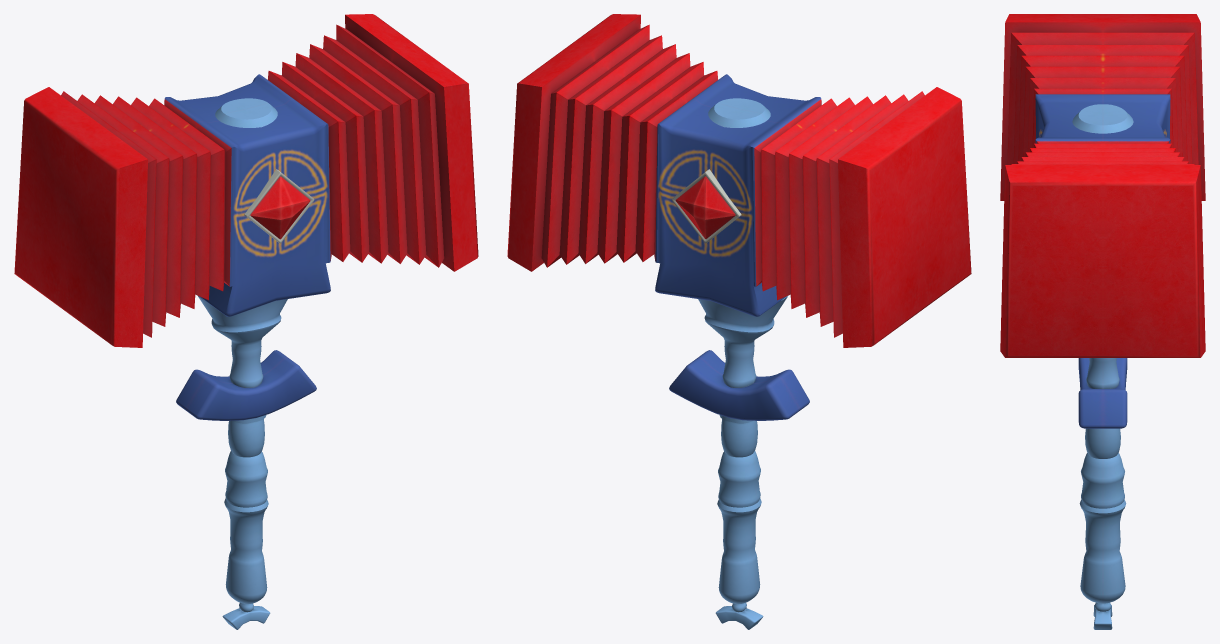
Rendered from toy hammer.fbx.
The picture shows the model from 3 angles, left to right: view 1: azimuth 30°, elevation 25°; view 2: azimuth 150°, elevation 25°; view 3: azimuth 270°, elevation 25°; orthographic projection.
Parts seen in each view (by area): view 1: Toy Hammer; view 2: Toy Hammer; view 3: Toy Hammer.
Part boxes in pixels (x1,y1,x2,y2): Toy Hammer: [14, 14, 478, 629]; Toy Hammer: [507, 14, 971, 629]; Toy Hammer: [1000, 14, 1205, 629].
Size of the model in its own units: 228 by 318 by 112.
1 material, 1 textured.
